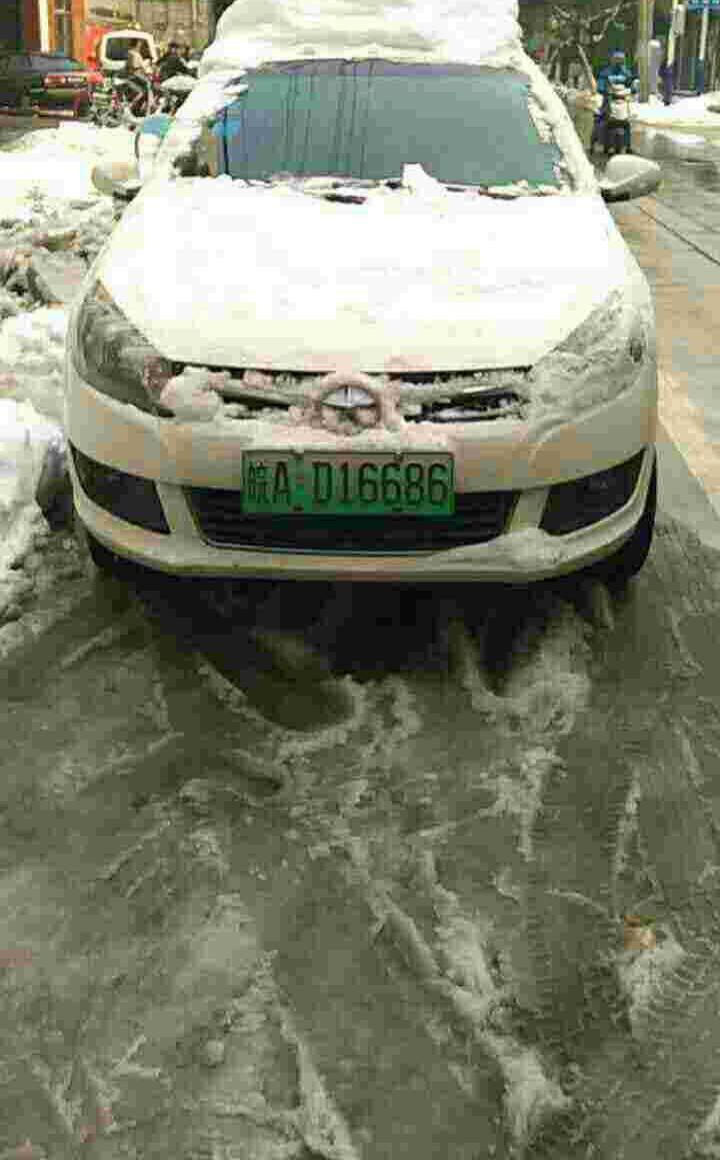car_green: (236, 447, 457, 521)
